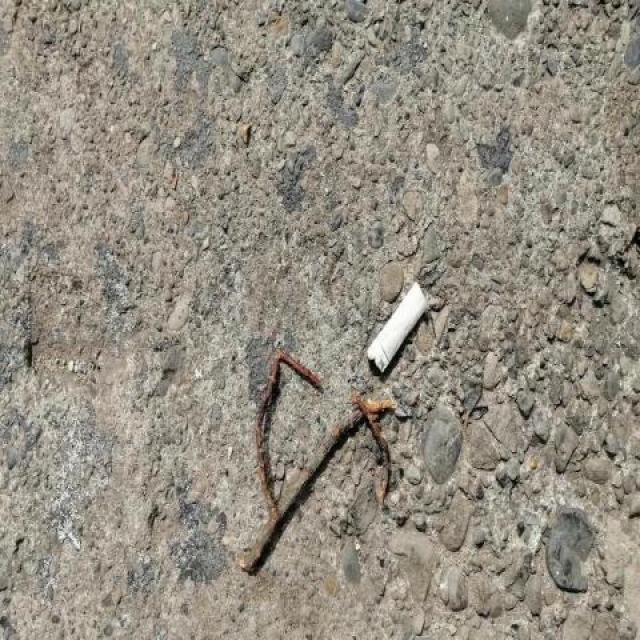non-organic waste: (364, 274, 432, 382)
